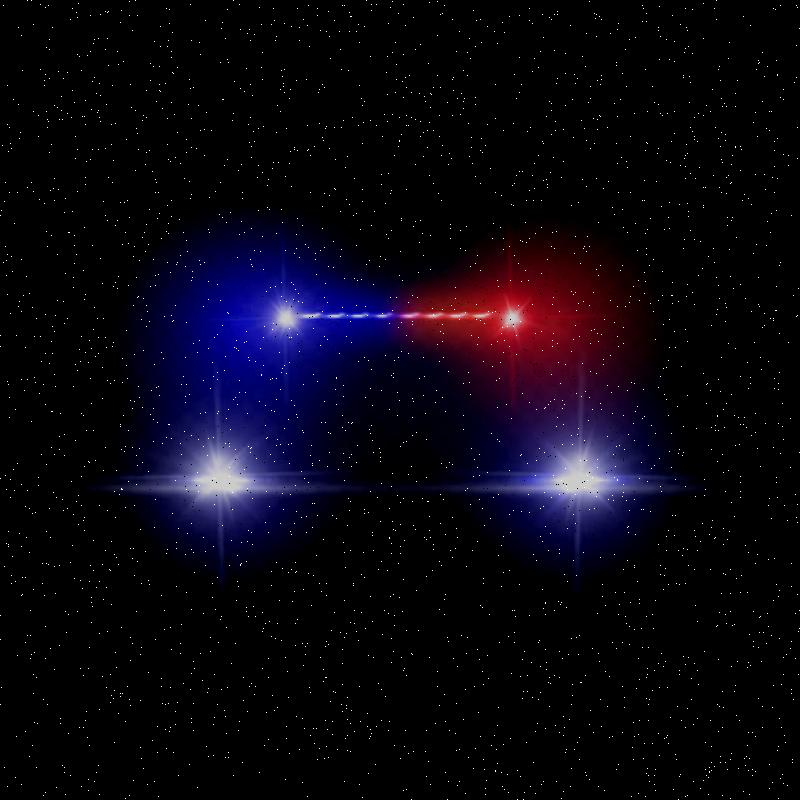AmbulanceSiren: (264, 277, 538, 346)
